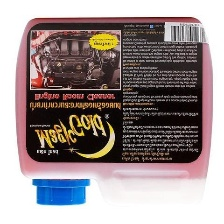cleaning_solution: (12, 14, 217, 212)
